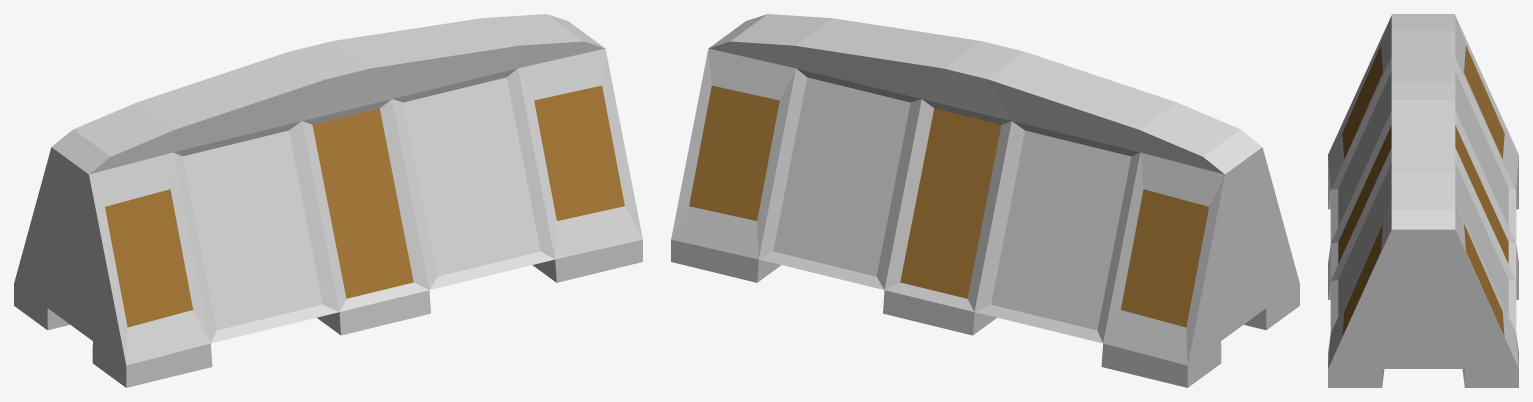
File: Barreira.fbx
The picture shows the model from 3 angles, left to right: view 1: azimuth 30°, elevation 25°; view 2: azimuth 150°, elevation 25°; view 3: azimuth 270°, elevation 25°; orthographic projection. The views are drawn at different scales.
Visible parts, largest first — view 1: "Cone"; view 2: "Cone"; view 3: "Cone".
Part boxes in pixels (left/top/right/bottom): "Cone": left=14, top=14, right=642, bottom=387; "Cone": left=671, top=14, right=1299, bottom=387; "Cone": left=1328, top=14, right=1518, bottom=387.
Bounding box in the file's own units: 97.69 × 40.38 × 36.76.
